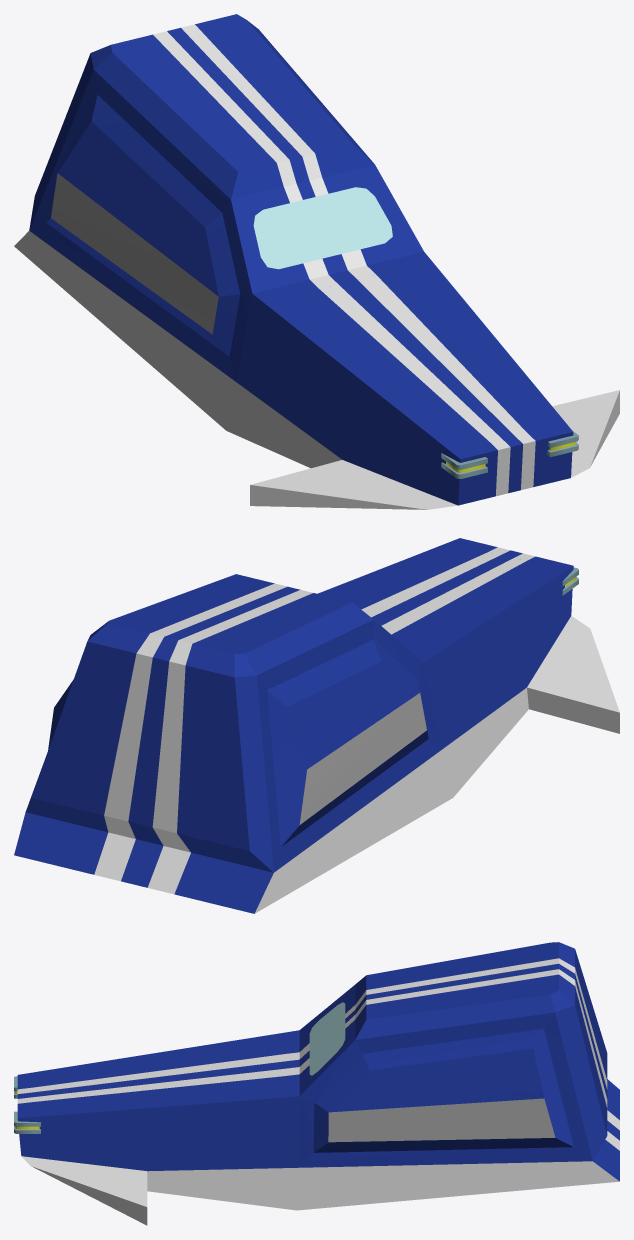
Rendered from race_car.fbx.
The picture shows the model from 3 angles, top to bottom: view 1: azimuth 30°, elevation 25°; view 2: azimuth 150°, elevation 25°; view 3: azimuth 270°, elevation 25°; orthographic projection. The views are drawn at different scales.
Parts seen in each view (by area): view 1: RaceCarBody, RaceCarDoor.R, RaceCarHood, RaceCarWindshield, RaceCarLamps.R; view 2: RaceCarBody, RaceCarDoor.R, RaceCarHood; view 3: RaceCarBody, RaceCarDoor.L, RaceCarHood, RaceCarWindshield.
Boxes of the visible parts, x1,y1,x2,y2 form: RaceCarBody: (14, 14, 619, 509); RaceCarDoor.R: (46, 95, 240, 356); RaceCarHood: (280, 265, 547, 446); RaceCarWindshield: (253, 187, 392, 269); RaceCarLamps.R: (441, 453, 487, 478); RaceCarBody: (14, 538, 619, 913); RaceCarDoor.R: (267, 639, 428, 846); RaceCarHood: (335, 546, 548, 652); RaceCarBody: (17, 942, 619, 1225); RaceCarDoor.L: (313, 1029, 573, 1152); RaceCarHood: (32, 1039, 284, 1110); RaceCarWindshield: (309, 1002, 345, 1075).
Bounding box in the file's own units: 2.99 × 5.38 × 1.95.
